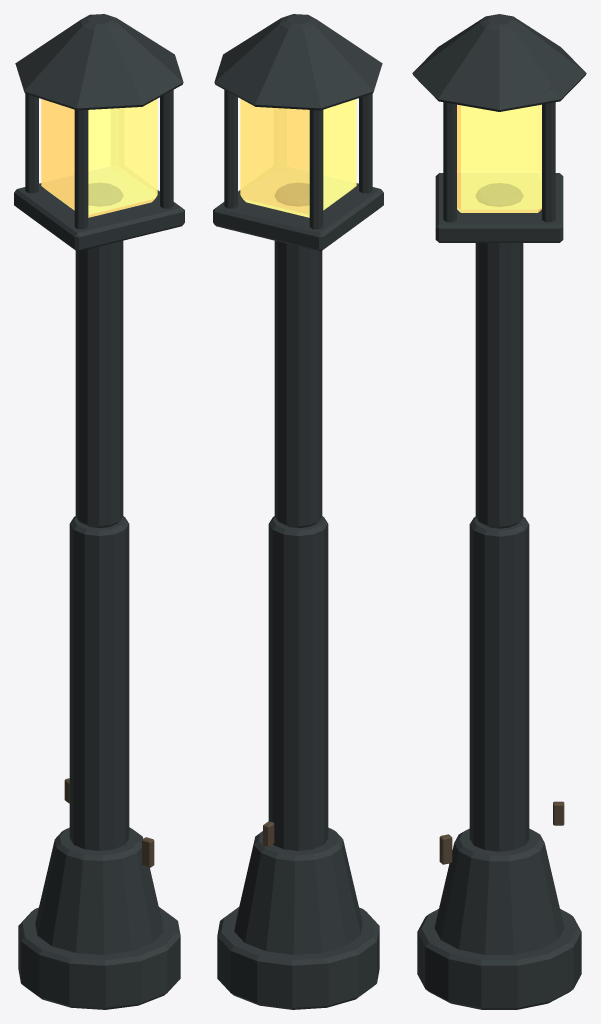
Rendered from runtime.glb.
3 views of the same model, side by side, from view 1: azimuth 30°, elevation 25°; view 2: azimuth 150°, elevation 25°; view 3: azimuth 270°, elevation 25° (orthographic).
Parts seen in each view (by area): view 1: eiffel-historic-lamp-v06_nocol; view 2: eiffel-historic-lamp-v06_nocol; view 3: eiffel-historic-lamp-v06_nocol.
Part boxes in pixels (x1,y1,x2,y2): eiffel-historic-lamp-v06_nocol: (14, 14, 184, 1009); eiffel-historic-lamp-v06_nocol: (213, 14, 383, 1009); eiffel-historic-lamp-v06_nocol: (412, 14, 586, 1009).
Size of the model in its own units: 0.7631 by 4.63 by 0.7631.
